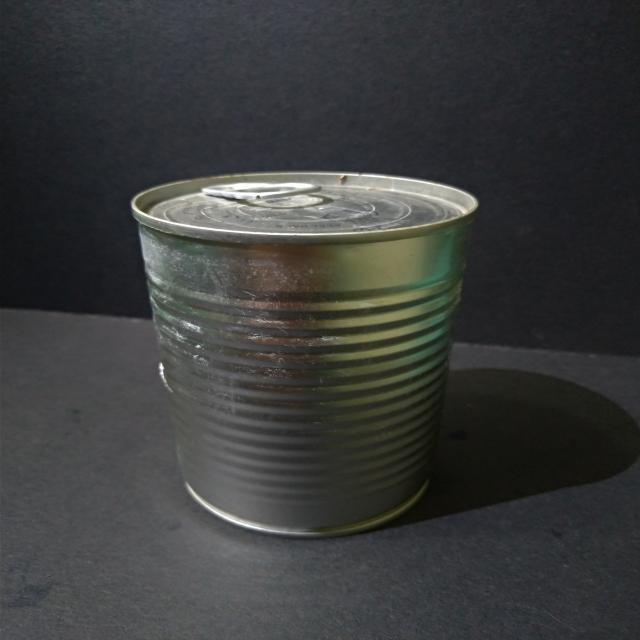metal-can: (125, 168, 478, 542)
